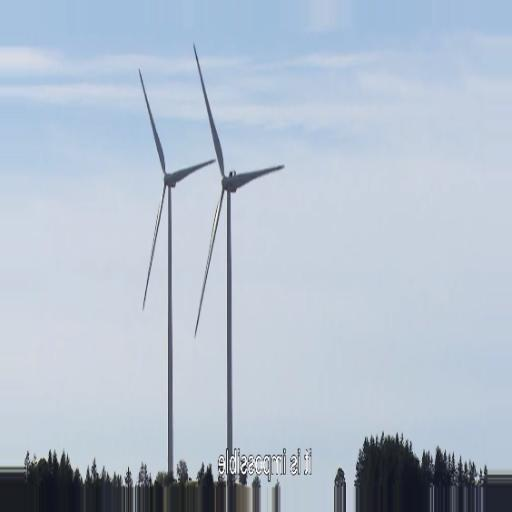wind turbine: (191, 43, 287, 470), (137, 66, 217, 483)
